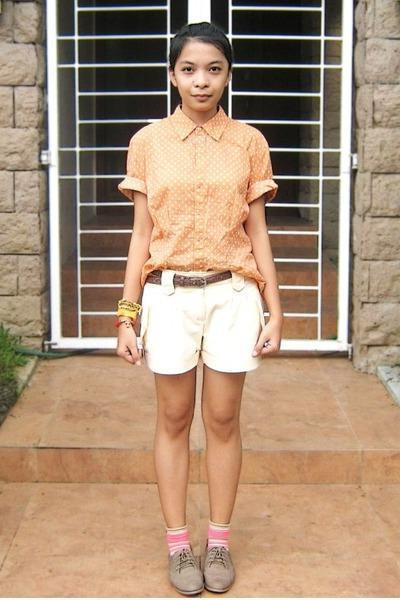Shorts: (125, 260, 272, 380)
short sleeve shirt: (117, 105, 279, 284)
